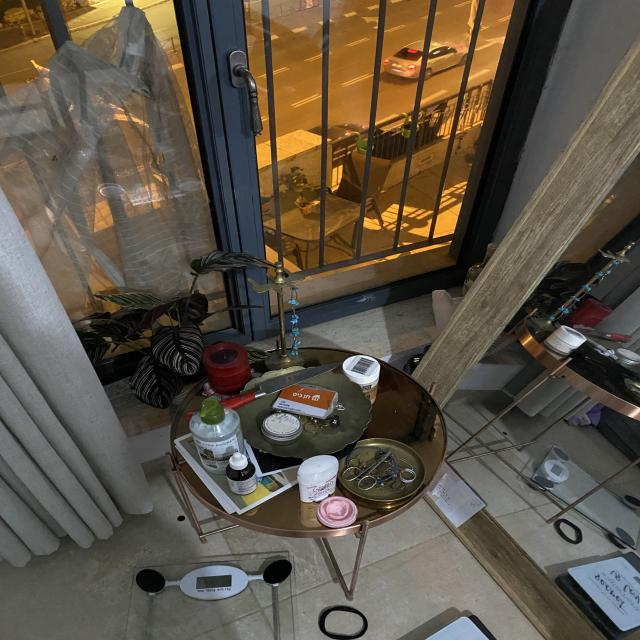Hammer: (168, 330, 370, 424)
